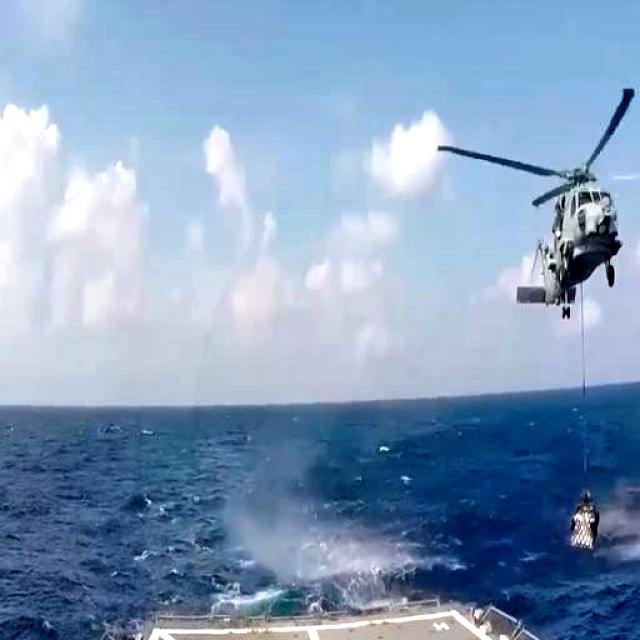drone: (432, 81, 640, 325)
